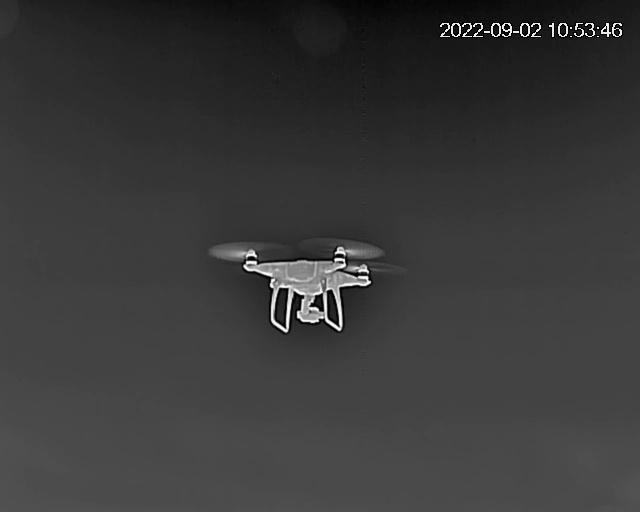DJI-Phantom: (210, 235, 407, 332)
